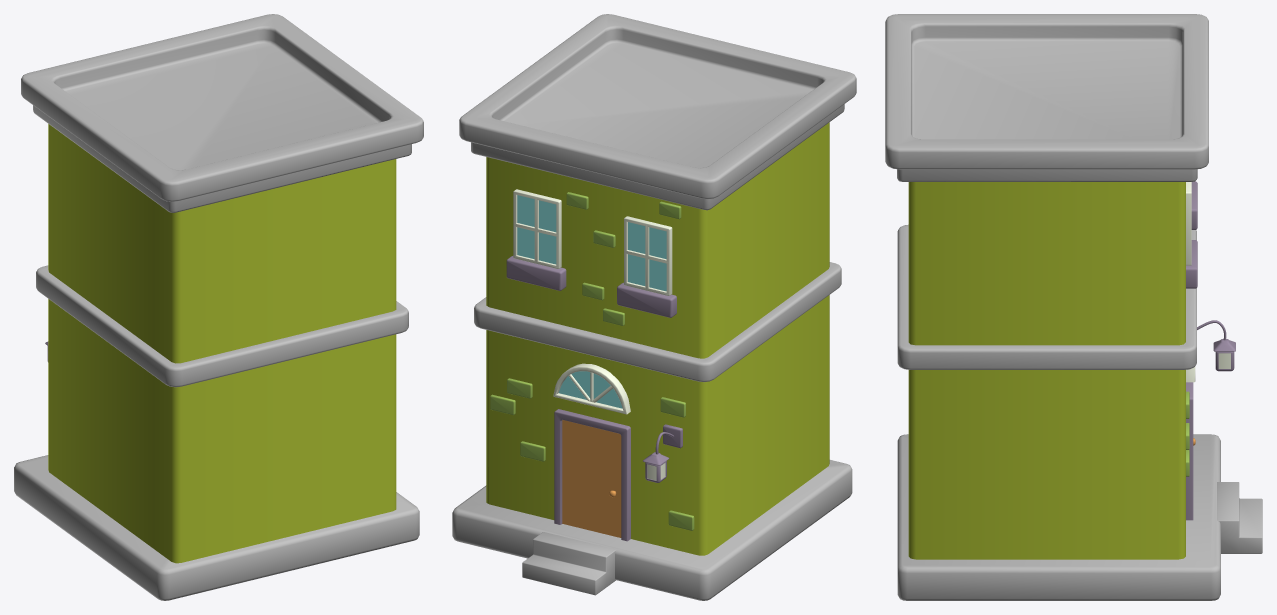
The model's file is green_build.fbx.
3 renders of one model, left to right at view 1: azimuth 30°, elevation 25°; view 2: azimuth 150°, elevation 25°; view 3: azimuth 270°, elevation 25°, orthographic. The views are drawn at different scales.
Parts seen in each view (by area): view 1: building_green_ust, building_green_alt; view 2: building_green_ust, building_green_alt; view 3: building_green_ust, building_green_alt.
Boxes of the visible parts, left/top/right/bottom form: building_green_ust: left=21, top=14, right=423, bottom=363; building_green_alt: left=14, top=265, right=419, bottom=600; building_green_ust: left=459, top=14, right=856, bottom=358; building_green_alt: left=452, top=262, right=852, bottom=600; building_green_ust: left=885, top=14, right=1208, bottom=345; building_green_alt: left=897, top=224, right=1262, bottom=600.
Size of the model in its own units: 350 by 541 by 408.
Materials: 2 (2 with a texture image).
